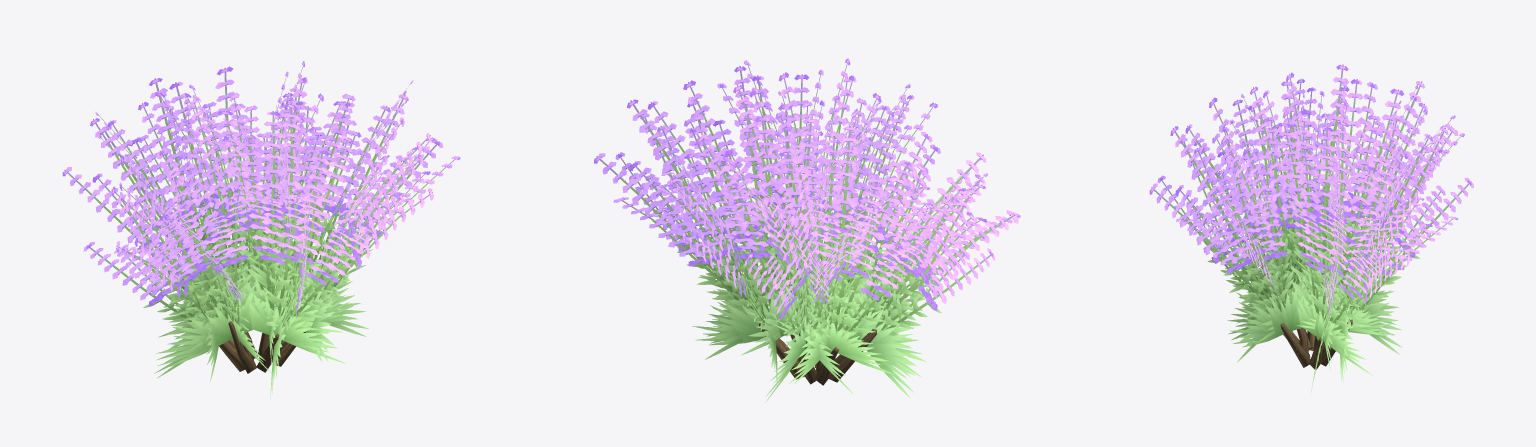
File: lavender.glb
3 renders of one model, left to right at view 1: azimuth 30°, elevation 25°; view 2: azimuth 150°, elevation 25°; view 3: azimuth 270°, elevation 25°, orthographic. The views are drawn at different scales.
Visible parts, largest first — view 1: LavenderSprigs, LavenderWood; view 2: LavenderSprigs, LavenderWood; view 3: LavenderSprigs, LavenderWood.
Part boxes in pixels (x1,y1,x2,y2): LavenderSprigs: [62, 61, 460, 399]; LavenderWood: [219, 321, 306, 373]; LavenderSprigs: [594, 58, 1020, 402]; LavenderWood: [759, 323, 876, 385]; LavenderSprigs: [1149, 64, 1473, 395]; LavenderWood: [1280, 297, 1355, 369].
Size of the model in its own units: 1.03 by 0.72 by 0.83.
Materials: 2 (2 with a texture image).
